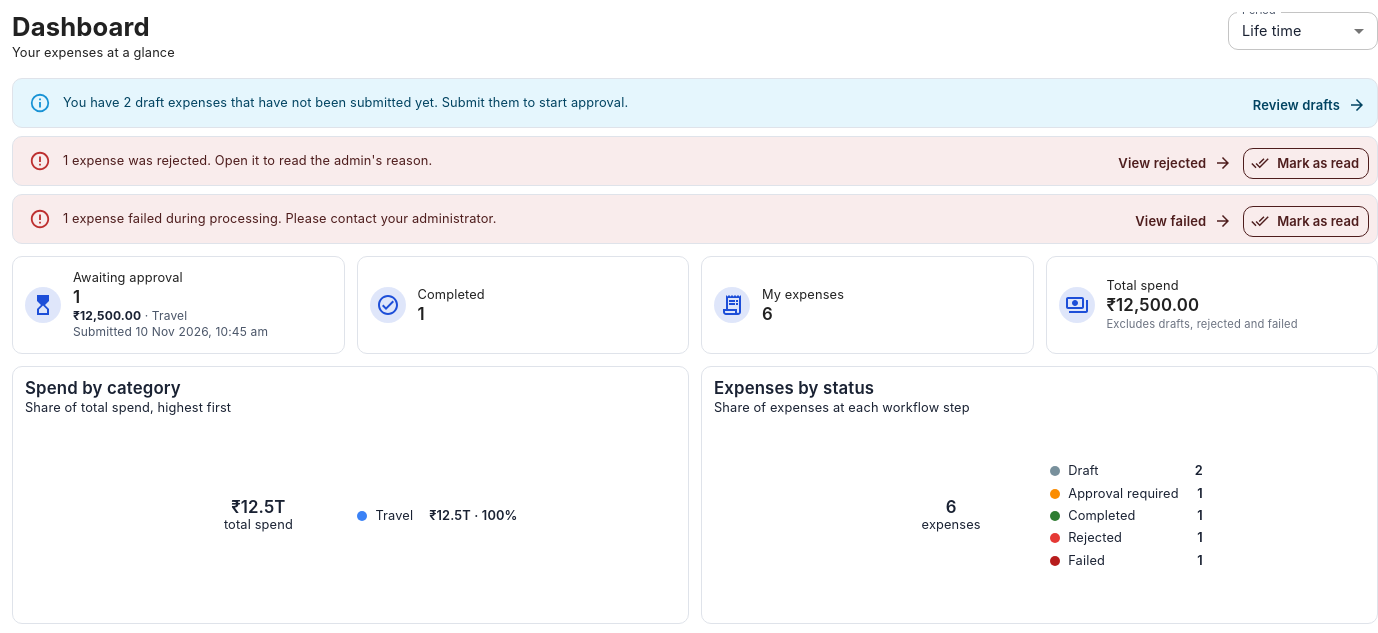
Test: dashboard for a regular user › hides a rejected or failed notice once the user marks it as read, and keeps it hidden after a reload
Later steps or results of the test are not shown.
Expected: the text "1 expense was rejected. Open it to read the admin's reason." is shown, [63, 153, 432, 168]
What coordinates should you click on to do the following:
click the button "Mark as read" next to "View rejected"
I would click on:
 (1306, 163)
Its box is [1243, 148, 1369, 179].
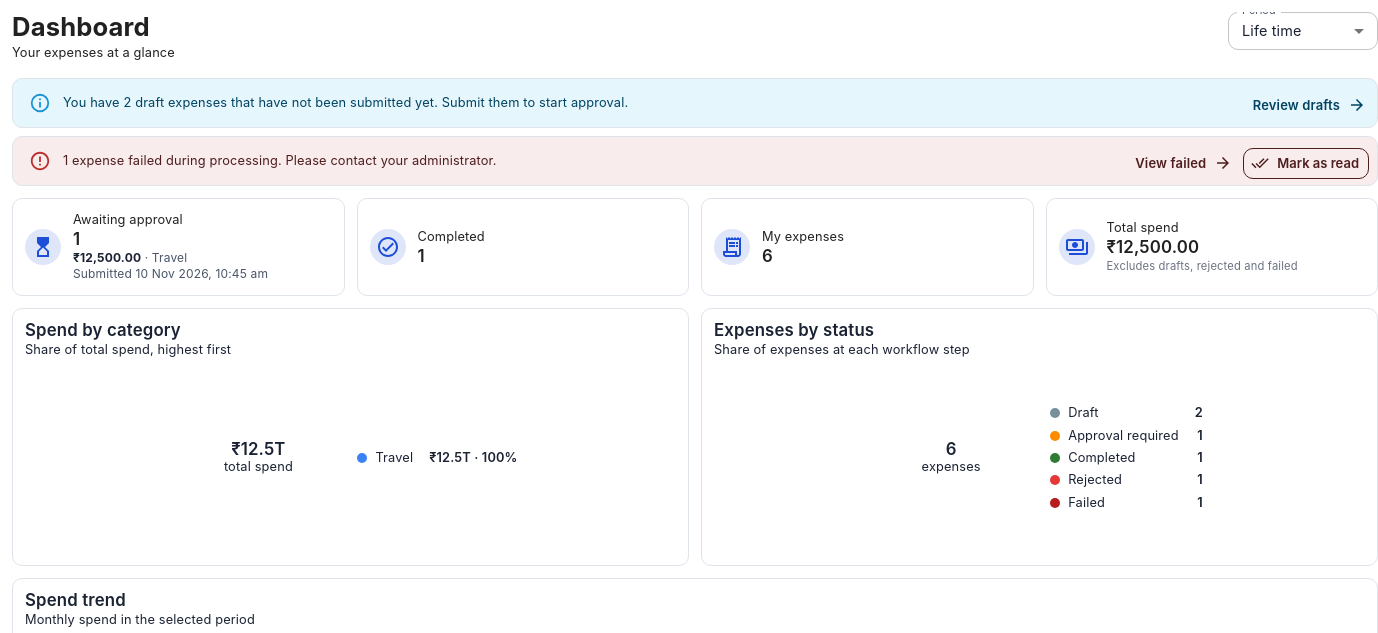
Expected: the text "1 expense failed during processing" is shown, [63, 153, 496, 168]
Now the text "1 expense was rejected" is gone
